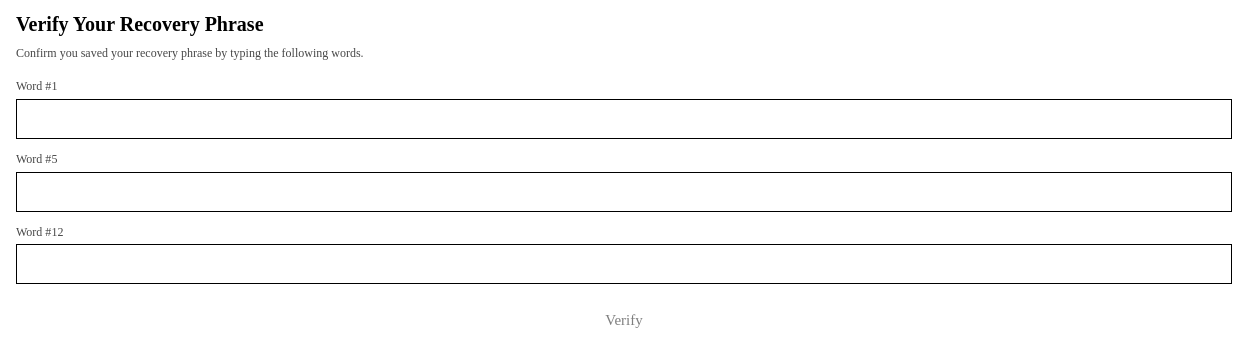
MnemonicVerify (B5.1, Pattern A) › Verify button is disabled until all fields have content
Expected: the button "Verify" is disabled, [16,300,1232,340]
Type "abandon" into the field labelled "Word #1".
click(624, 119); type("abandon")  # box [16,99,1232,139]
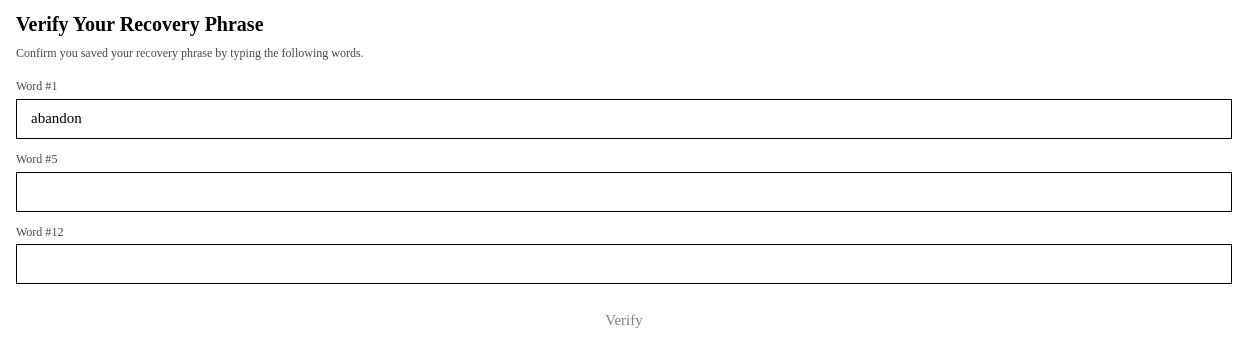
Expected: the button "Verify" is disabled, [16,300,1232,340]
Type "above" into the field labelled "Word #5".
click(624, 192); type("above")  # box [16,172,1232,212]
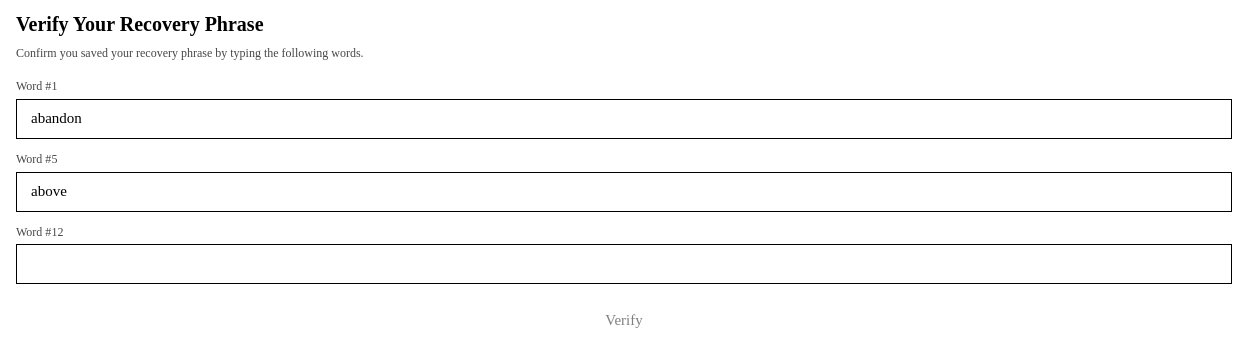
Expected: the button "Verify" is disabled, [16,300,1232,340]
Type "accident" into the field labelled "Word #12".
click(624, 264); type("accident")  # box [16,244,1232,284]
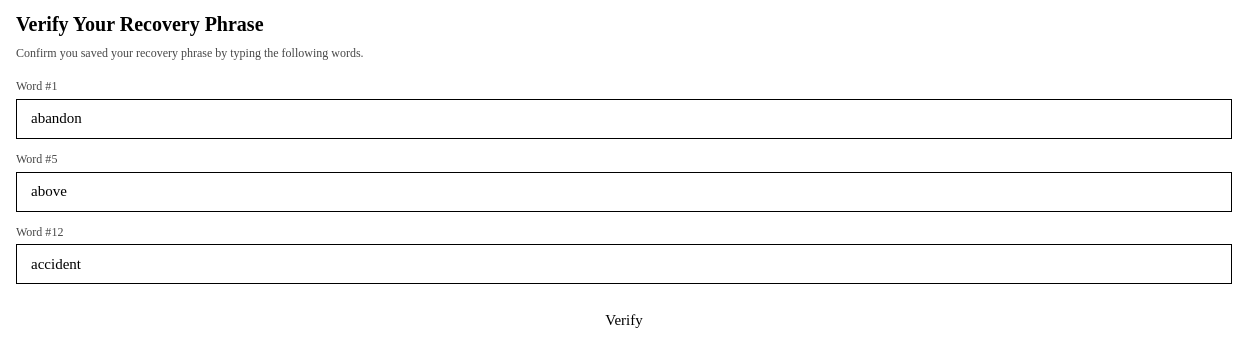
Result: the button "Verify" is enabled at [16,300,1232,340]
